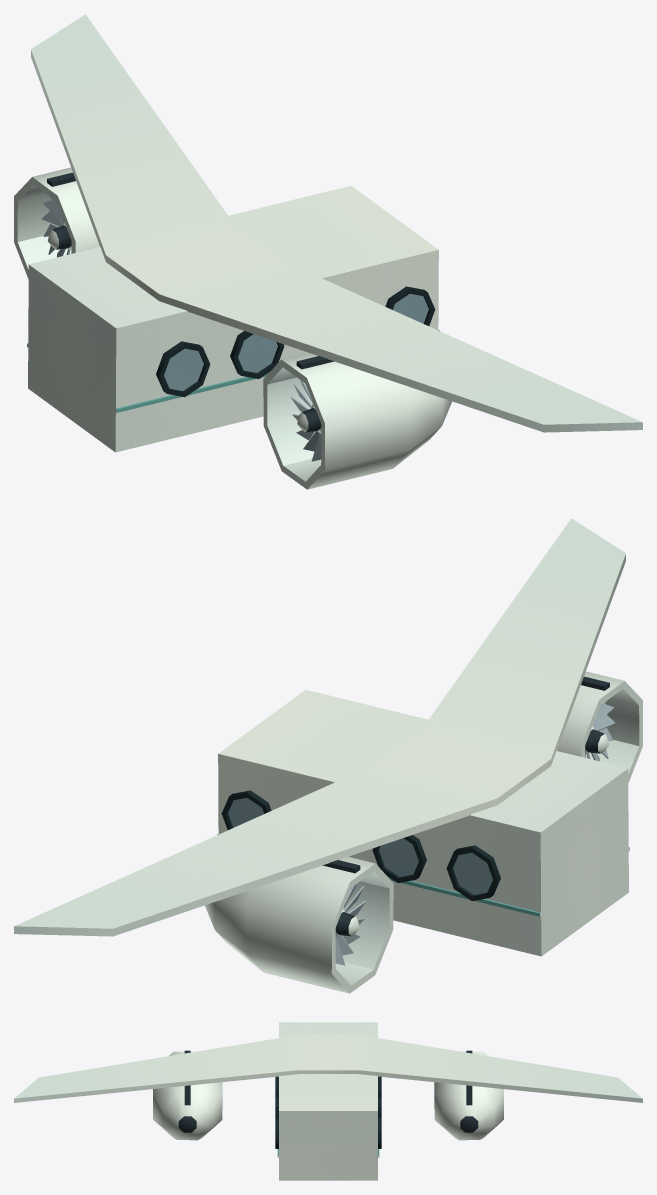
File: Plane_Body.FBX
3 views of the same model, one above another, from view 1: azimuth 30°, elevation 25°; view 2: azimuth 150°, elevation 25°; view 3: azimuth 270°, elevation 25° (orthographic). The views are drawn at different scales.
Parts seen in each view (by area): view 1: SM_Plane_Body; view 2: SM_Plane_Body; view 3: SM_Plane_Body.
Part boxes in pixels (bbox=[...]): SM_Plane_Body: bbox=[14, 14, 642, 489]; SM_Plane_Body: bbox=[14, 518, 642, 993]; SM_Plane_Body: bbox=[14, 1022, 642, 1180].
Size of the model in its own units: 136 by 52.51 by 405.
